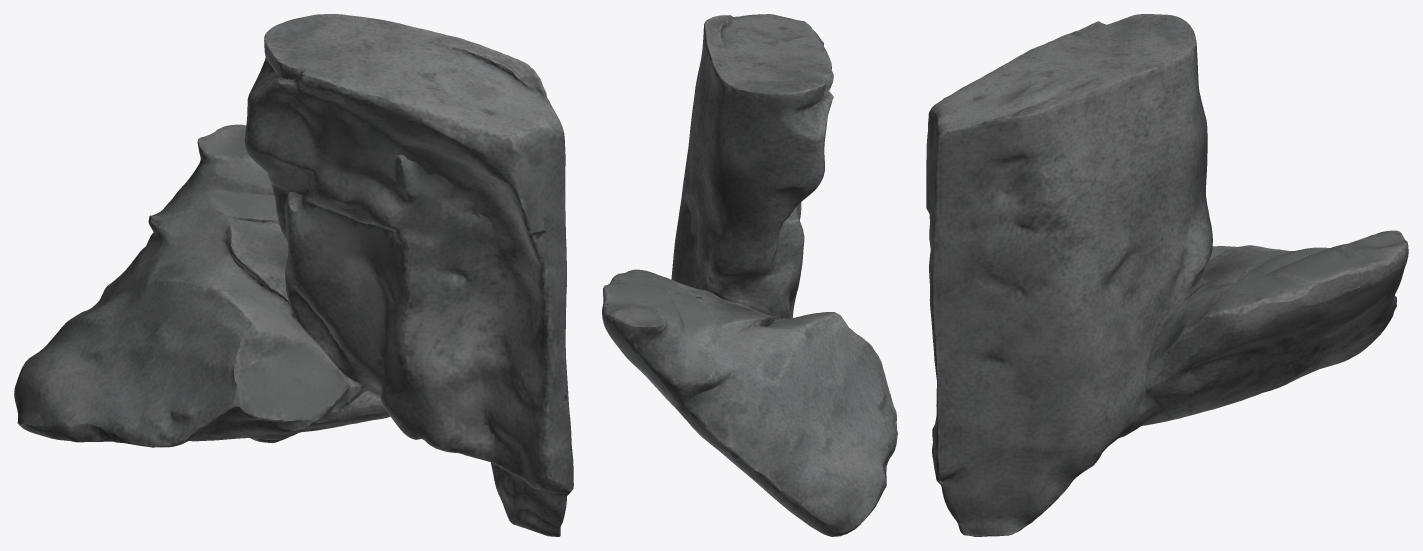
The picture shows the model from 3 angles, left to right: view 1: azimuth 30°, elevation 25°; view 2: azimuth 150°, elevation 25°; view 3: azimuth 270°, elevation 25°; orthographic projection. The views are drawn at different scales.
Visible parts, largest first — view 1: world; view 2: world; view 3: world.
Boxes of the visible parts, x1=… form: world: x1=14, y1=14, x2=573, y2=536; world: x1=602, y1=14, x2=897, y2=536; world: x1=926, y1=14, x2=1408, y2=536.
Size of the model in its own units: 1.22 by 1.5 by 1.5.
1 material, 1 textured.
